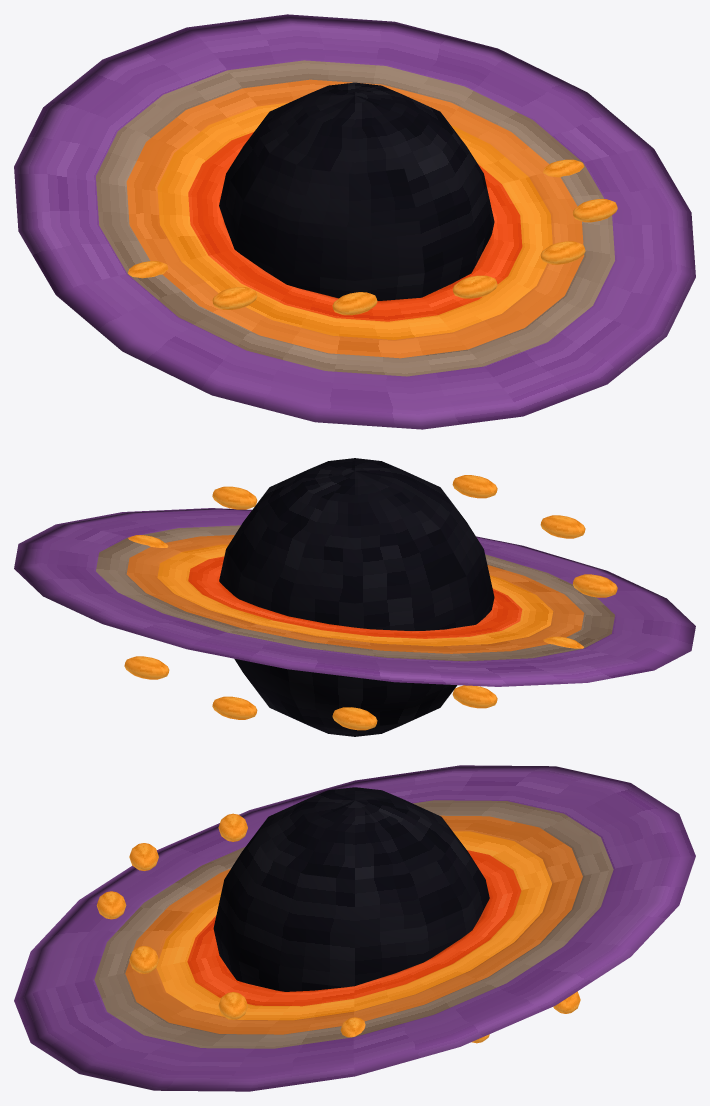
File: black-hole.glb
3 views of the same model, one above another, from view 1: azimuth 30°, elevation 25°; view 2: azimuth 150°, elevation 25°; view 3: azimuth 270°, elevation 25° (orthographic).
Visible parts, largest first — view 1: hot orbit (×5), event horizon, hot knot (×5); view 2: hot orbit (×5), event horizon, hot knot (×8); view 3: hot orbit (×5), event horizon, hot knot (×5).
Part boxes in pixels (x1,y1,x2,y2): hot orbit (×5): (14,14,695,429); event horizon: (219,82,494,300); hot knot (×5): (212,199,617,315); hot orbit (×5): (14,508,695,686); event horizon: (219,458,494,736); hot knot (×8): (124,475,617,730); hot orbit (×5): (14,765,695,1091); event horizon: (213,787,489,991); hot knot (×5): (96,813,247,1019).
Size of the model in its own units: 3.02 by 1.22 by 2.94.
6 materials, 6 textured.
